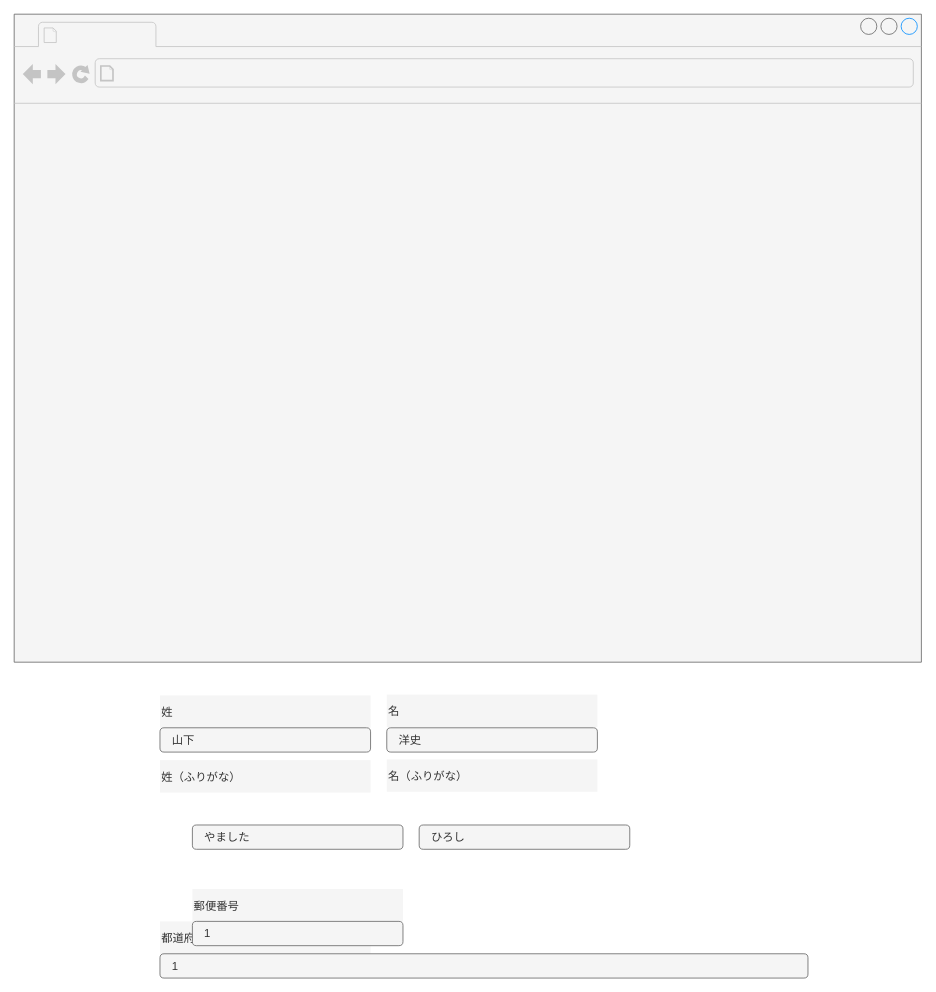
Image size: 936x992. Some labels were removed from this diagram. The shapes that lost their labels are listed below. From the top down, each one's centre as x and y in pixels, then its label:
At (103,34): "住所登録".
At (220,73): "https://www.●●●●".
